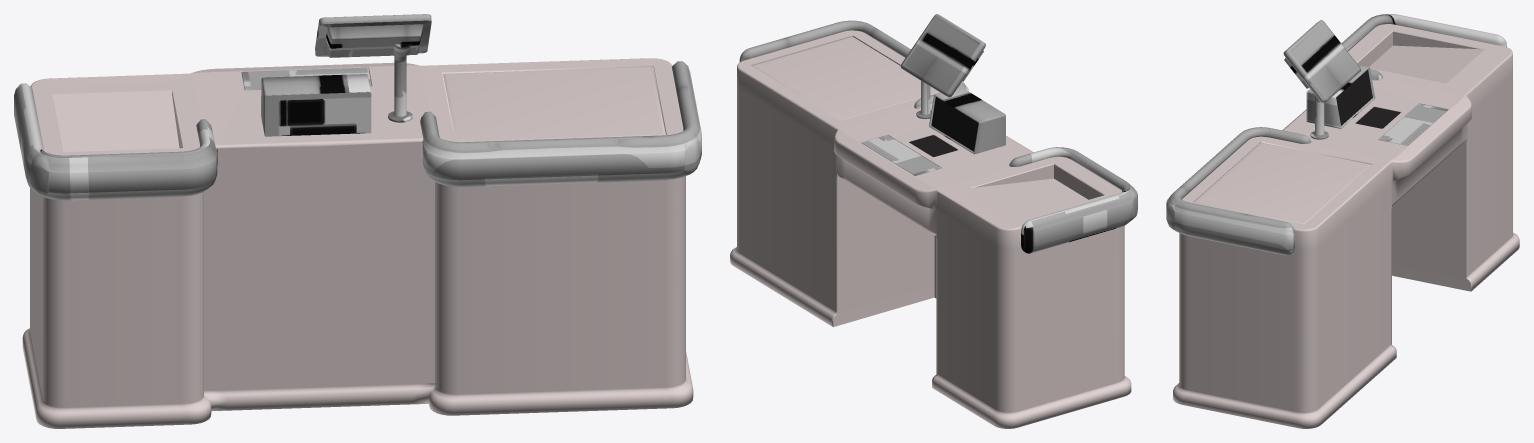
The model's file is checkout.glb.
The picture shows the model from 3 angles, left to right: view 1: azimuth 30°, elevation 25°; view 2: azimuth 150°, elevation 25°; view 3: azimuth 270°, elevation 25°; orthographic projection. The views are drawn at different scales.
Parts seen in each view (by area): view 1: body_skin_body_0, z_porte_caisse_no_norm_misc_tex_0, pied_ecran_misc_tex_0; view 2: body_skin_body_0, z_porte_caisse_no_norm_misc_tex_0, pied_ecran_misc_tex_0, z_porte_caisse_no_norm_glass_0; view 3: body_skin_body_0, z_porte_caisse_no_norm_misc_tex_0, pied_ecran_misc_tex_0, z_porte_caisse_no_norm_glass_0.
Boxes of the visible parts, bbox=[...] form: body_skin_body_0: bbox=[22, 58, 693, 428]; z_porte_caisse_no_norm_misc_tex_0: bbox=[14, 61, 701, 200]; pied_ecran_misc_tex_0: bbox=[315, 14, 431, 122]; body_skin_body_0: bbox=[730, 30, 1131, 428]; z_porte_caisse_no_norm_misc_tex_0: bbox=[739, 20, 1137, 253]; pied_ecran_misc_tex_0: bbox=[900, 14, 985, 119]; z_porte_caisse_no_norm_glass_0: bbox=[909, 97, 978, 156]; body_skin_body_0: bbox=[1173, 24, 1519, 428]; z_porte_caisse_no_norm_misc_tex_0: bbox=[1166, 14, 1506, 255]; pied_ecran_misc_tex_0: bbox=[1283, 20, 1360, 139]; z_porte_caisse_no_norm_glass_0: bbox=[1336, 70, 1400, 128].
Size of the model in its own units: 2 by 1.23 by 1.39.
3 materials, 1 textured.
